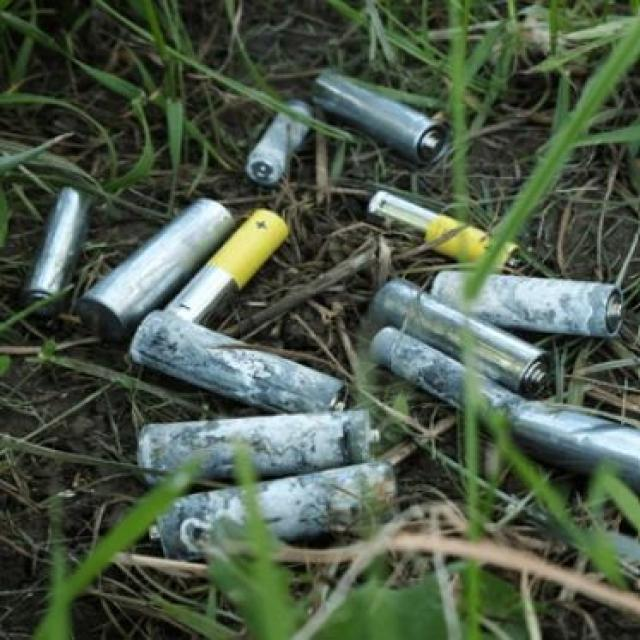electronic: (75, 171, 314, 377)
